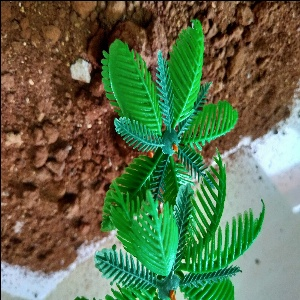plant: (91, 18, 268, 300)
